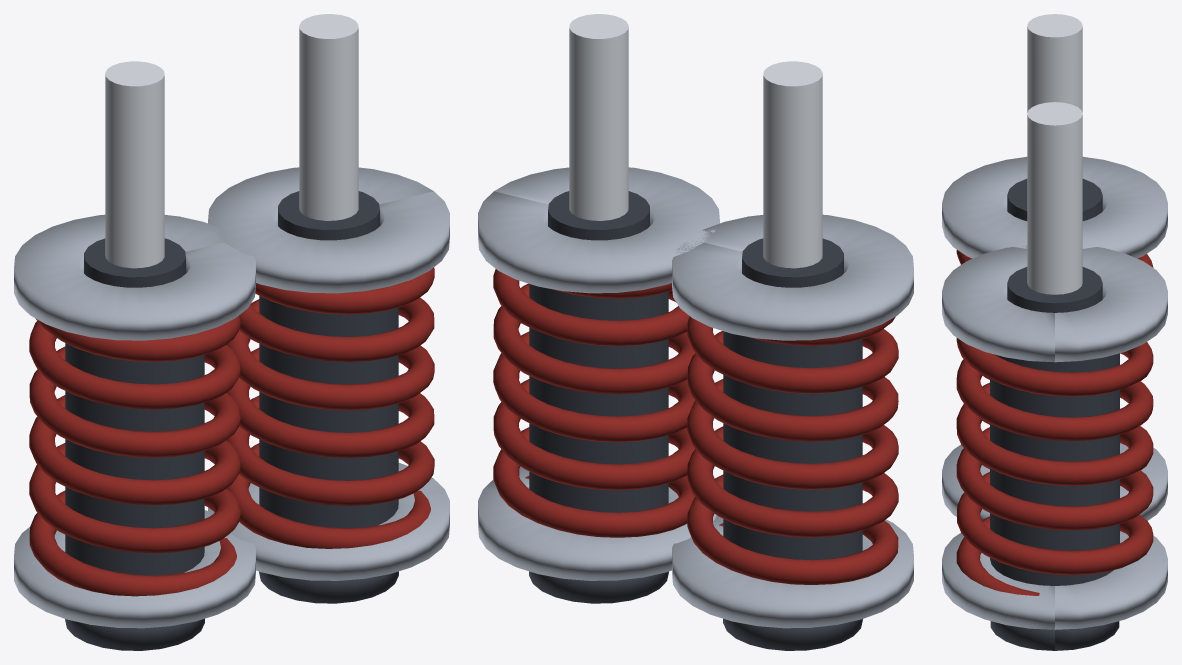
3 views of the same model, side by side, from view 1: azimuth 30°, elevation 25°; view 2: azimuth 150°, elevation 25°; view 3: azimuth 270°, elevation 25° (orthographic). The views are drawn at different scales.
Visible parts, largest first — view 1: Amortiguadores delanteros (par); view 2: Amortiguadores delanteros (par); view 3: Amortiguadores delanteros (par).
Boxes of the visible parts, <box> form: Amortiguadores delanteros (par): <box>14,14,449,650</box>; Amortiguadores delanteros (par): <box>478,14,913,650</box>; Amortiguadores delanteros (par): <box>942,14,1167,650</box>.
Size of the model in its own units: 0.7722 by 1 by 0.4015.
